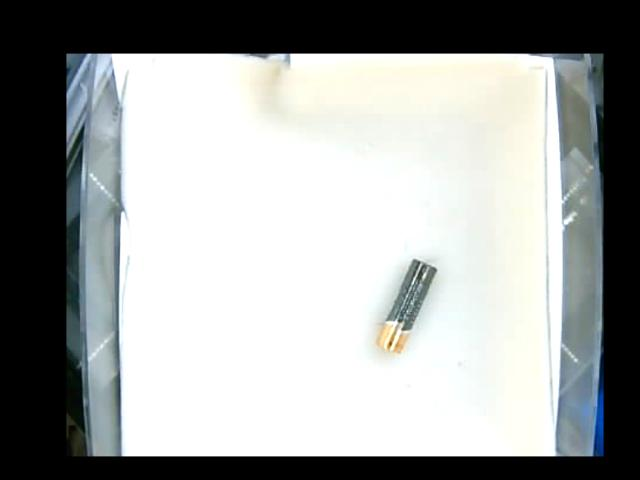Battery: (378, 256, 437, 354)
